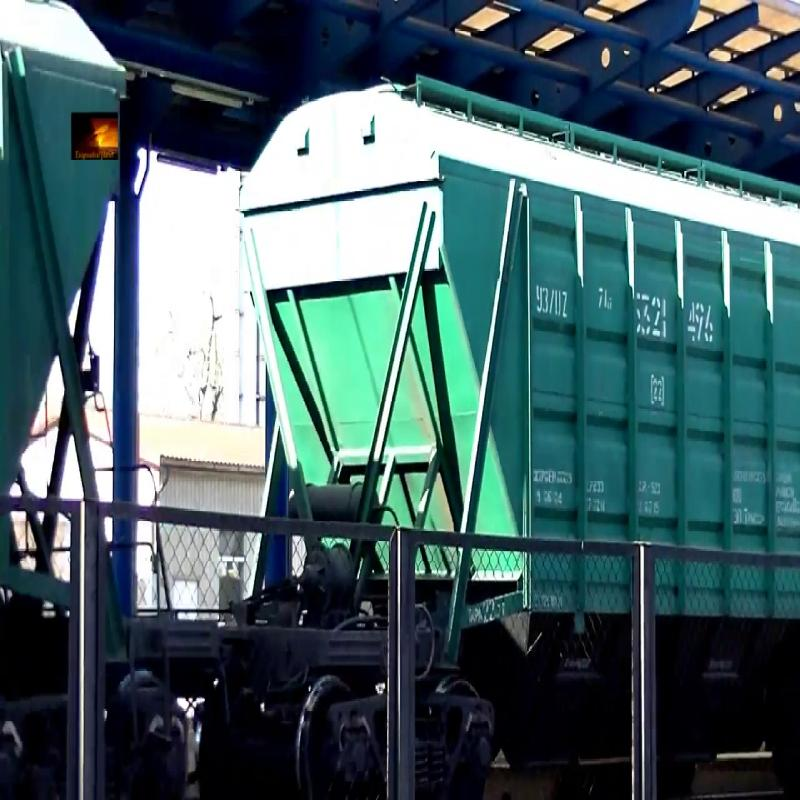train: (229, 10, 800, 776), (1, 10, 184, 782)
